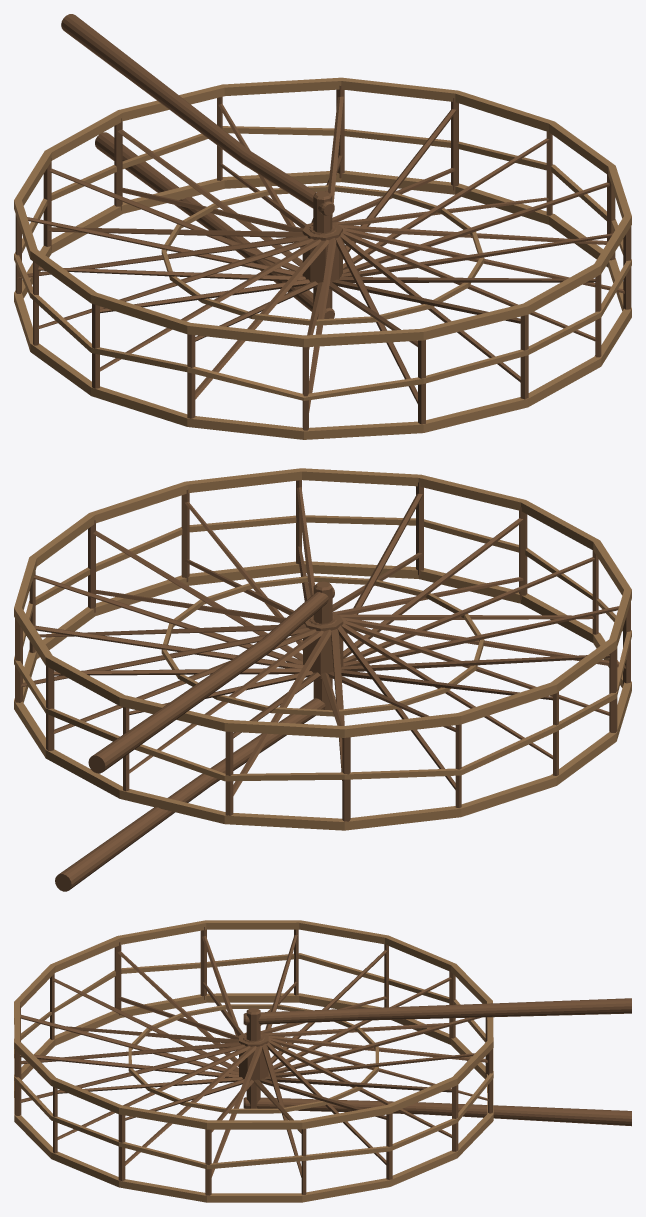
The model's file is water wheel.fbx.
3 renders of one model, top to bottom at view 1: azimuth 30°, elevation 25°; view 2: azimuth 150°, elevation 25°; view 3: azimuth 270°, elevation 25°, orthographic. The views are drawn at different scales.
Parts seen in each view (by area): view 1: roue a eau; view 2: roue a eau; view 3: roue a eau.
Boxes of the visible parts, x1,y1,x2,y2 form: roue a eau: (14, 14, 631, 439); roue a eau: (14, 468, 631, 891); roue a eau: (14, 920, 631, 1202).
Size of the model in its own units: 597 by 156 by 769.
